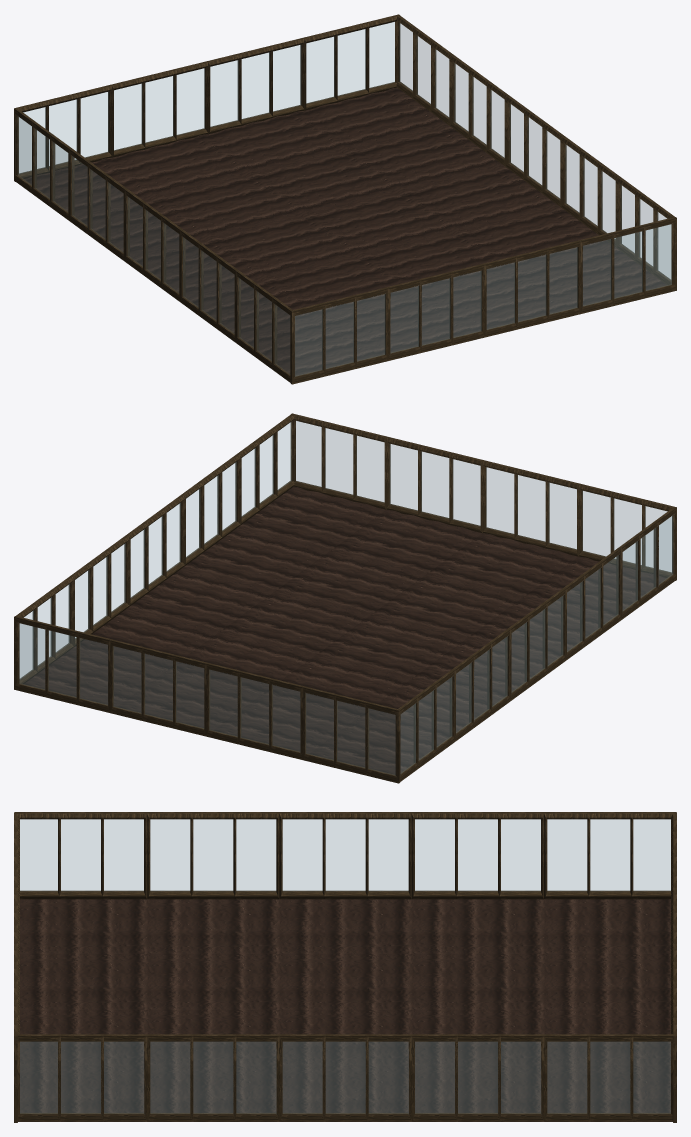
File: Prov.fbx
3 renders of one model, top to bottom at view 1: azimuth 30°, elevation 25°; view 2: azimuth 150°, elevation 25°; view 3: azimuth 270°, elevation 25°, orthographic. The views are drawn at different scales.
Visible parts, largest first — view 1: suelo, pared2, pared4, pared1, pared3; view 2: suelo, pared4, pared2, pared1, pared3; view 3: suelo, pared3, pared1, pared2, pared4.
Boxes of the visible parts, x1=… form: suelo: x1=24, y1=87, x2=666, y2=375; pared2: x1=291, y1=217, x2=676, y2=384; pared4: x1=14, y1=14, x2=400, y2=181; pared1: x1=14, y1=108, x2=295, y2=383; pared3: x1=395, y1=14, x2=675, y2=285; suelo: x1=24, y1=486, x2=666, y2=774; pared4: x1=14, y1=616, x2=399, y2=783; pared2: x1=290, y1=413, x2=676, y2=580; pared1: x1=395, y1=507, x2=676, y2=782; pared3: x1=15, y1=413, x2=295, y2=684; suelo: x1=18, y1=899, x2=672, y2=1121; pared3: x1=15, y1=1034, x2=676, y2=1121; pared1: x1=15, y1=812, x2=676, y2=899; pared2: x1=14, y1=812, x2=19, y2=1122; pared4: x1=671, y1=812, x2=676, y2=1122.
Bounding box in the file's own units: 24.05 × 4.35 × 30.08.
3 materials, 2 textured.
